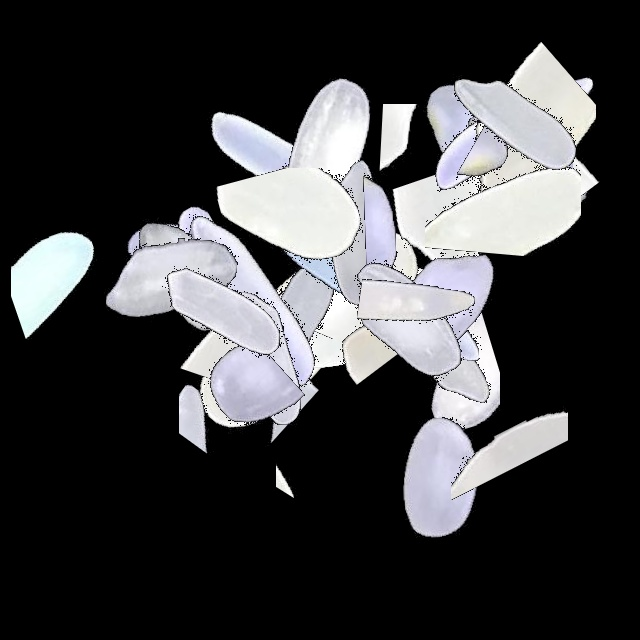Broken: (434, 11, 596, 261), (168, 191, 418, 348), (425, 51, 581, 301), (223, 190, 473, 339), (171, 168, 421, 315), (355, 258, 500, 508), (390, 82, 640, 226), (99, 341, 349, 484), (373, 175, 512, 425), (303, 239, 553, 378), (390, 113, 525, 363), (11, 160, 138, 410), (112, 332, 362, 450), (451, 279, 568, 529), (298, 162, 548, 278), (179, 279, 292, 529), (337, 165, 445, 415), (115, 281, 365, 386), (472, 43, 573, 293), (389, 123, 639, 223), (390, 113, 640, 209), (38, 206, 288, 299), (121, 292, 371, 381), (390, 66, 640, 154), (296, 104, 546, 185), (307, 113, 383, 363), (276, 340, 352, 590)
Full: (160, 214, 410, 464), (56, 131, 306, 381), (390, 63, 640, 313), (224, 193, 474, 443), (316, 217, 566, 467), (174, 42, 424, 292), (375, 58, 625, 308), (355, 0, 605, 250), (212, 85, 462, 335), (316, 353, 566, 603), (390, 52, 640, 302), (61, 148, 311, 398), (165, 201, 415, 451), (390, 3, 640, 253), (126, 177, 376, 427), (320, 175, 570, 425), (204, 22, 454, 272), (144, 234, 394, 484), (45, 152, 295, 402), (235, 109, 485, 359), (390, 0, 640, 250), (280, 194, 530, 444), (98, 187, 348, 437)
